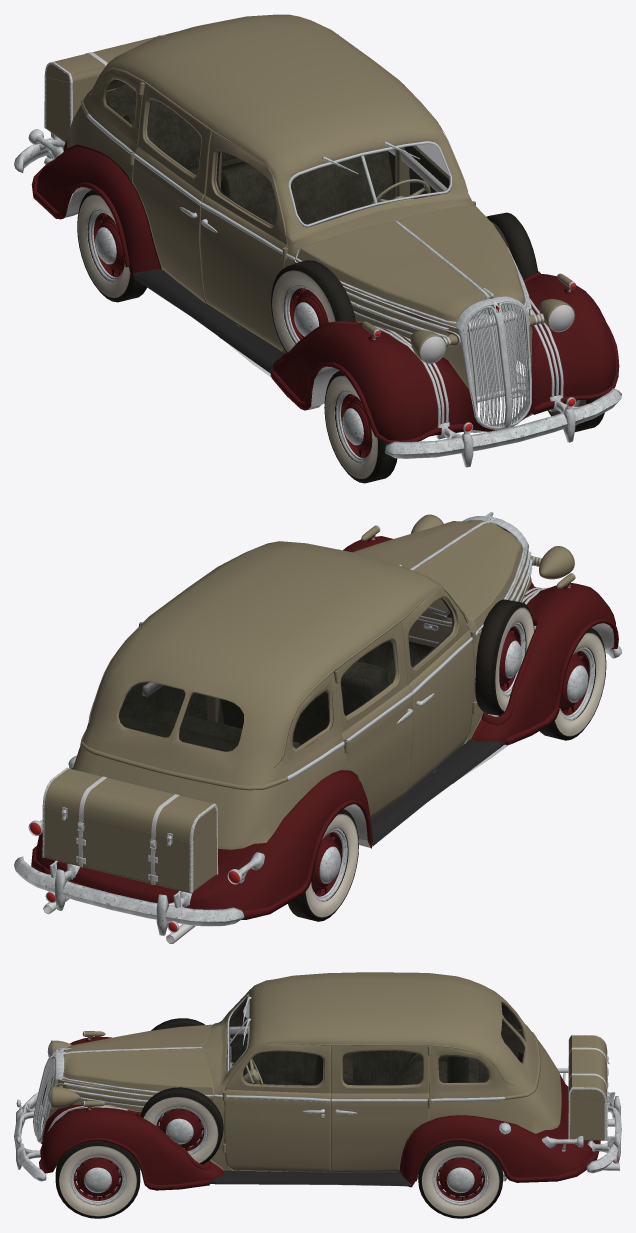
Rendered from Sedan1936.fbx.
3 renders of one model, top to bottom at view 1: azimuth 30°, elevation 25°; view 2: azimuth 150°, elevation 25°; view 3: azimuth 270°, elevation 25°, orthographic. The views are drawn at different scales.
Parts seen in each view (by area): view 1: body, bonnet, door_fr, door_rr, wheel_fr, wheel_rr, door_fl; view 2: body, door_rr, door_fr, bonnet, wheel_rr, wheel_fr, foor_rl; view 3: body, door_fl, foor_rl, bonnet, wheel_fl, wheel_rl, door_fr, door_rr.
Boxes of the visible parts, left/top/right/bottom form: body: left=14, top=14, right=621, bottom=467; bonnet: left=295, top=205, right=527, bottom=326; door_fr: left=199, top=132, right=287, bottom=350; door_rr: left=132, top=84, right=212, bottom=303; wheel_fr: left=324, top=371, right=397, bottom=483; wheel_rr: left=77, top=190, right=146, bottom=302; door_fl: left=400, top=144, right=449, bottom=198; body: left=14, top=512, right=621, bottom=943; door_rr: left=336, top=621, right=413, bottom=818; door_fr: left=401, top=589, right=475, bottom=792; bonnet: left=353, top=520, right=524, bottom=631; wheel_rr: left=288, top=809, right=358, bottom=921; wheel_fr: left=540, top=628, right=606, bottom=740; foor_rl: left=142, top=682, right=207, bottom=720; body: left=14, top=972, right=621, bottom=1190; door_fl: left=224, top=1044, right=330, bottom=1172; foor_rl: left=331, top=1045, right=429, bottom=1172; bonnet: left=62, top=1024, right=213, bottom=1097; wheel_fl: left=55, top=1141, right=140, bottom=1218; wheel_rl: left=418, top=1141, right=502, bottom=1218; door_fr: left=226, top=997, right=317, bottom=1083; door_rr: left=352, top=1051, right=416, bottom=1084.
Bounding box in the file's own units: 207 × 196 × 587.
